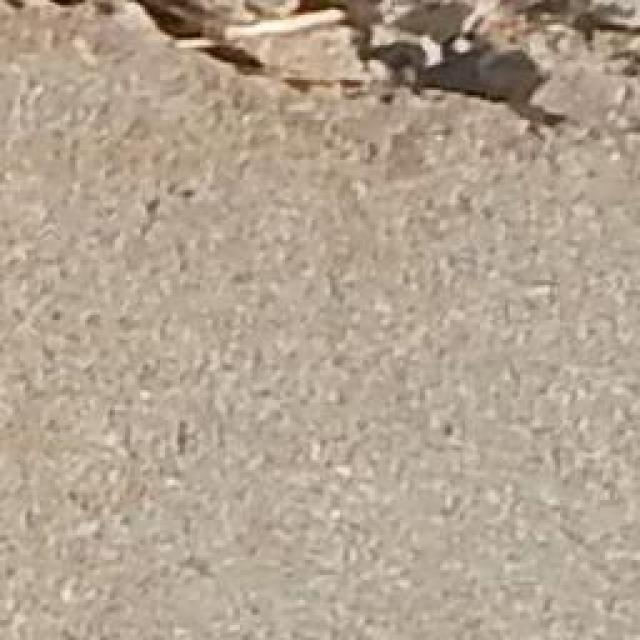concrete-crack: (55, 0, 640, 137)
